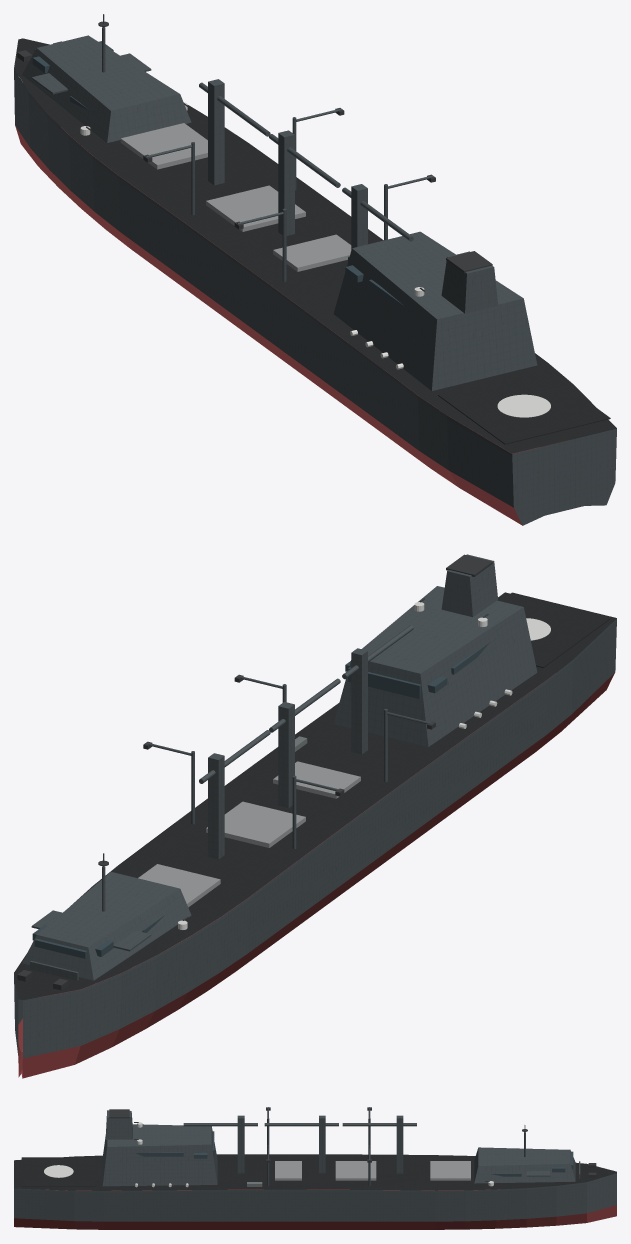
The model's file is type_903.glb.
3 renders of one model, top to bottom at view 1: azimuth 30°, elevation 25°; view 2: azimuth 150°, elevation 25°; view 3: azimuth 270°, elevation 25°, orthographic. The views are drawn at different scales.
Parts seen in each view (by area): view 1: 903_hull; view 2: 903_hull; view 3: 903_hull.
Boxes of the visible parts, box(x1,y1,x2,y2) form: 903_hull: box(14, 14, 616, 525); 903_hull: box(14, 554, 616, 1078); 903_hull: box(14, 1107, 616, 1229).
Bounding box in the file's own units: 37.3 × 35.89 × 178.
3 materials, 3 textured.
